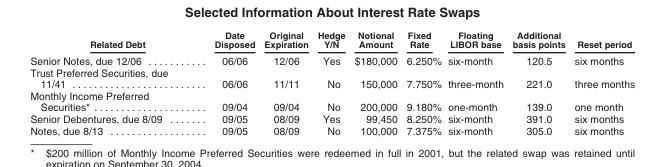table: (29, 29, 634, 136)
table column: (29, 29, 190, 136), (190, 29, 258, 136), (569, 29, 634, 136), (444, 29, 507, 136), (507, 29, 569, 136), (258, 29, 312, 136), (349, 29, 401, 136), (401, 29, 444, 136), (312, 29, 349, 136)
table column header: (29, 29, 634, 51)
table row: (29, 66, 634, 89), (29, 89, 634, 112), (29, 29, 634, 51), (29, 51, 634, 66), (29, 112, 634, 124), (29, 124, 634, 136)
